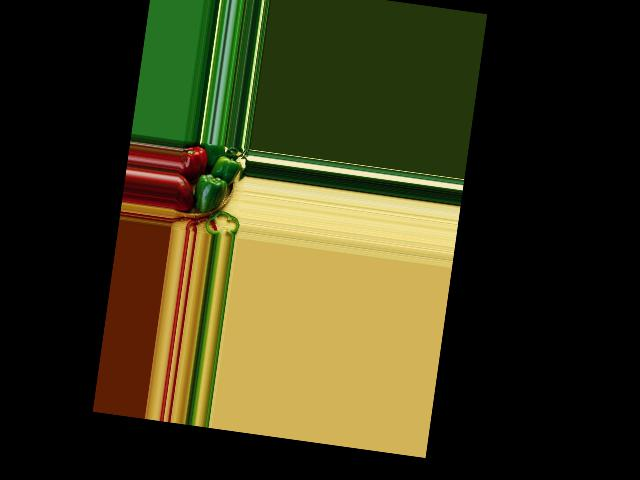bell_pepper: (174, 173, 195, 213)
